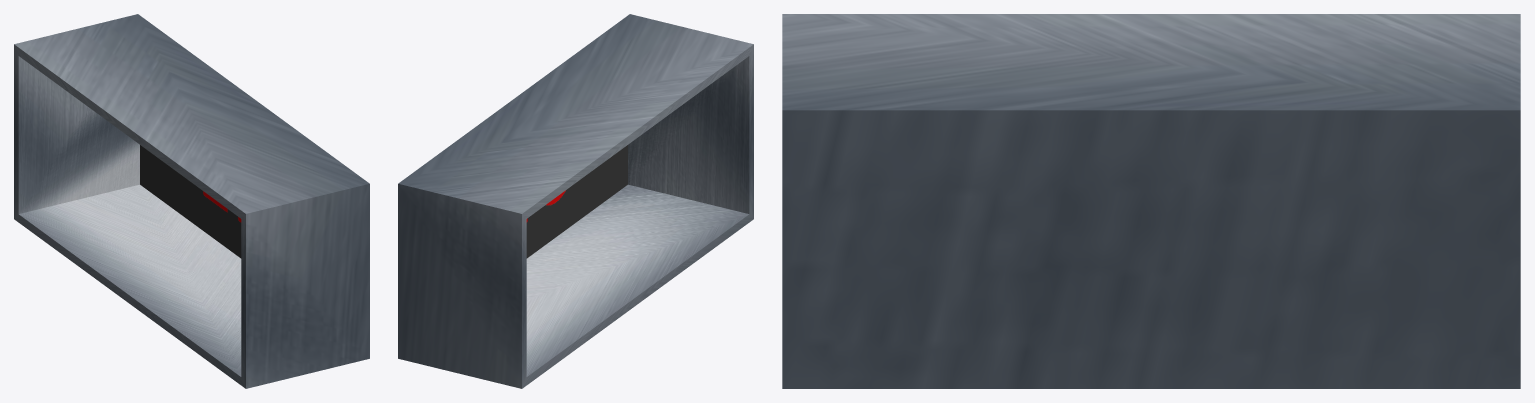
File: airflow_gate (1).fbx
The picture shows the model from 3 angles, left to right: view 1: azimuth 30°, elevation 25°; view 2: azimuth 150°, elevation 25°; view 3: azimuth 270°, elevation 25°; orthographic projection. The views are drawn at different scales.
Visible parts, largest first — view 1: Cube; view 2: Cube; view 3: Cube.
Part boxes in pixels (<box>): Cube: <box>14,14,369,388</box>; Cube: <box>398,14,753,388</box>; Cube: <box>782,14,1520,388</box>.
Bounding box in the file's own units: 61.74 × 83.28 × 200.
2 materials, 2 textured.
